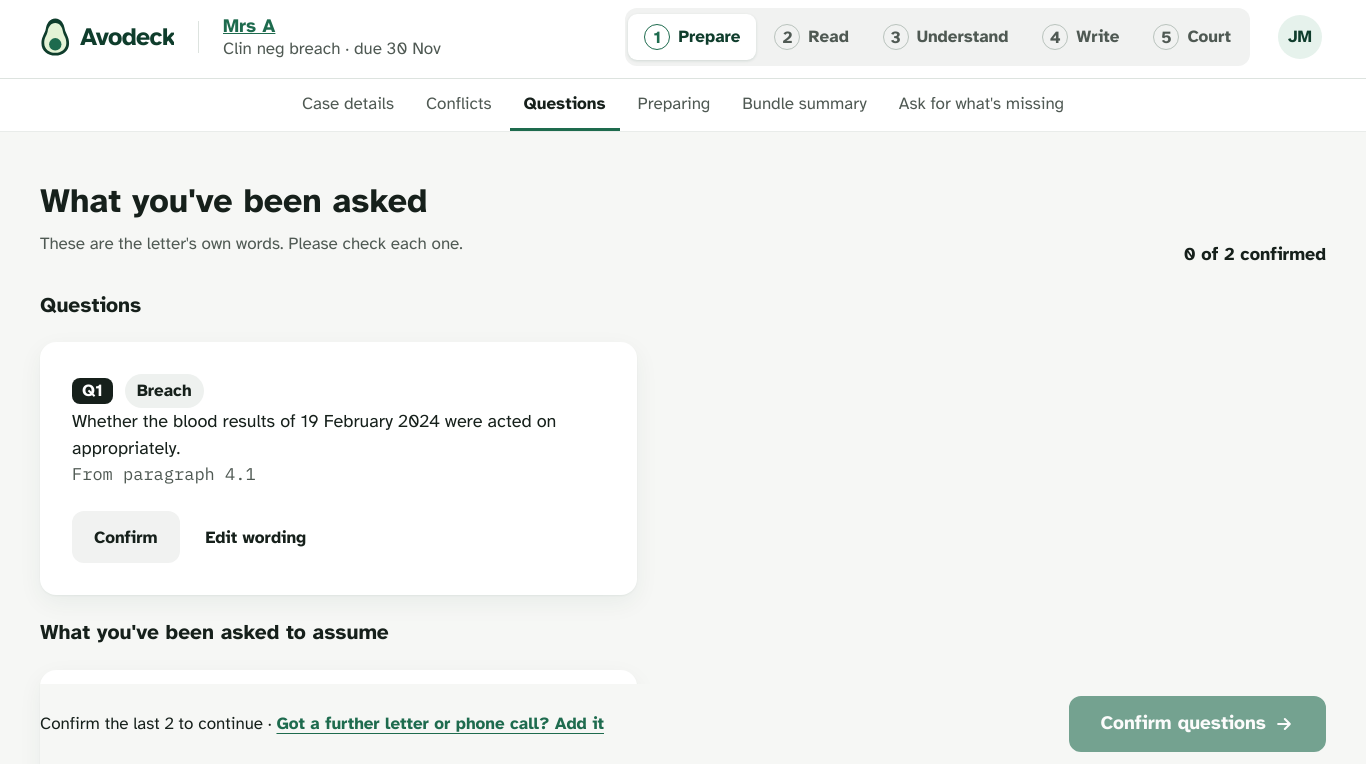
Test: changing the wording keeps the letter's own words on show
This screenshot has width=1366, height=764.
Click the button "Edit wording" at (256, 537), box [192,511,320,563]
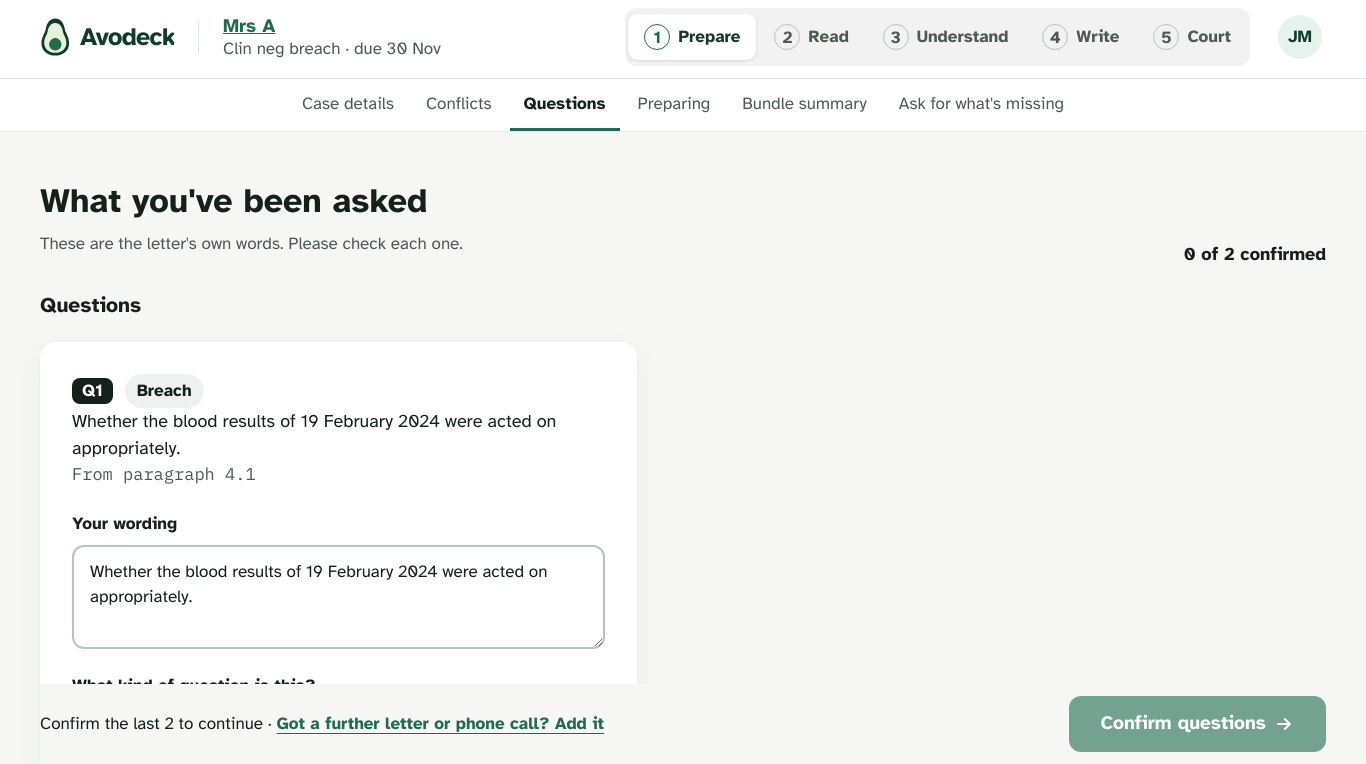
Replace the text in the text box labelled "Your wording" with "Were the February results acted on?" at (339, 597), box [72,545,605,649]
(page scrolled)
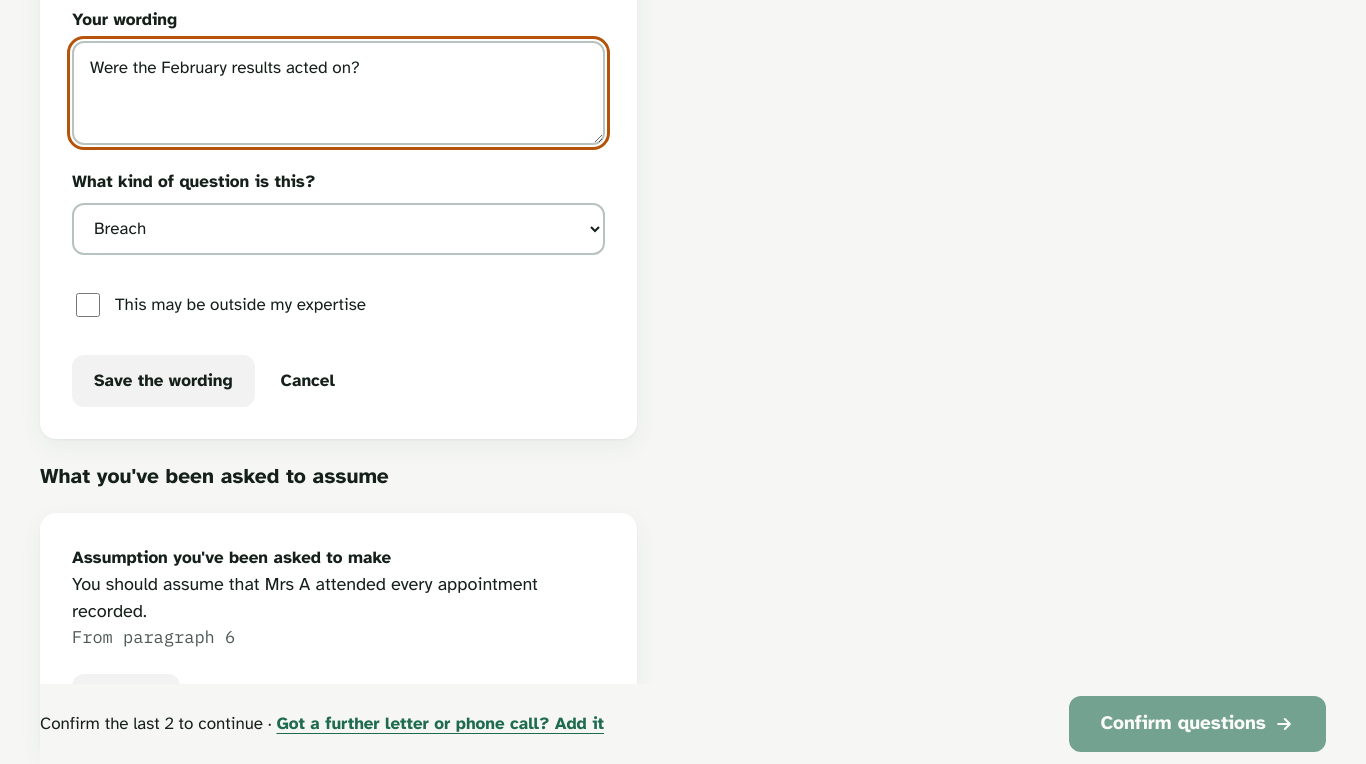
Click the button "Save the wording" at (163, 381), box [72,355,255,407]
(page scrolled)
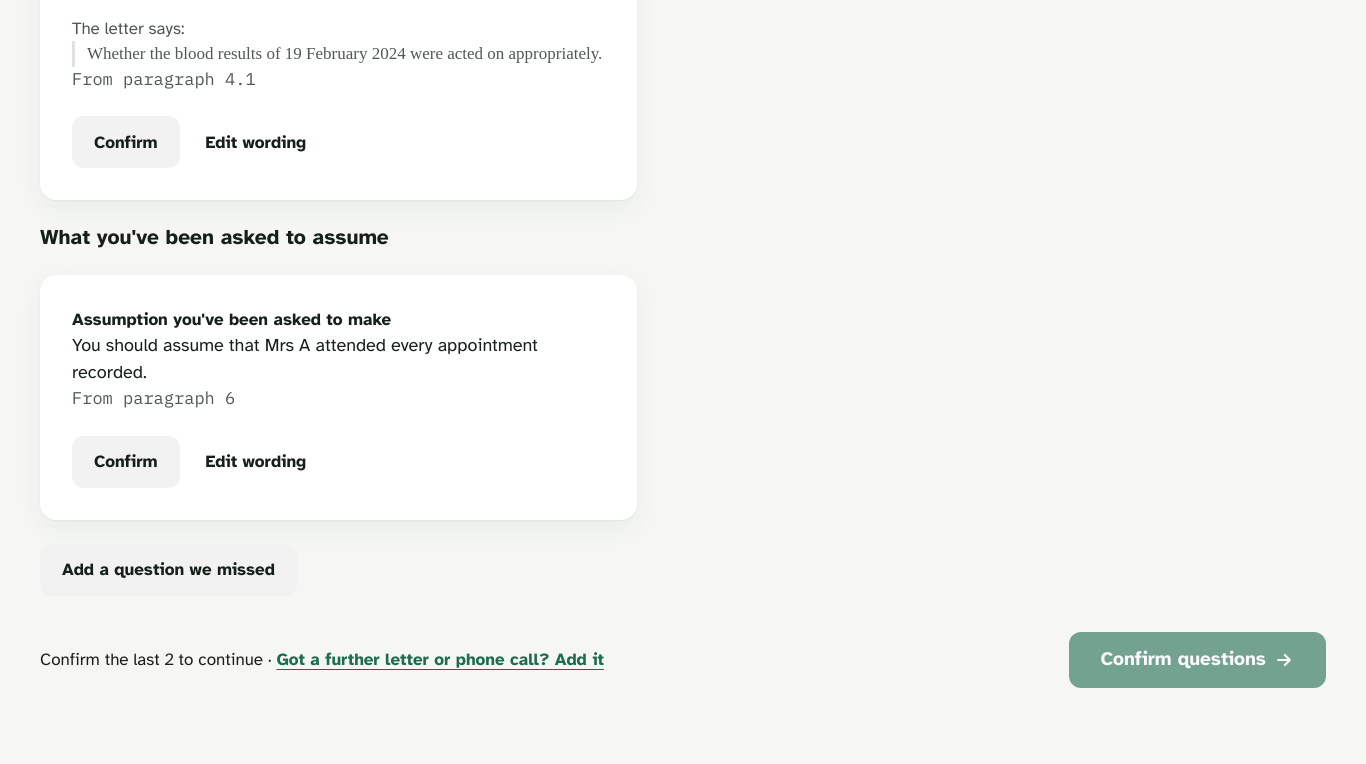
Expected: the text "Whether the blood results of 19 February 2024 were acted on appropriately." is shown, [72,41,605,67]
Now the text "The letter says:" is shown, box [72,18,184,39]
